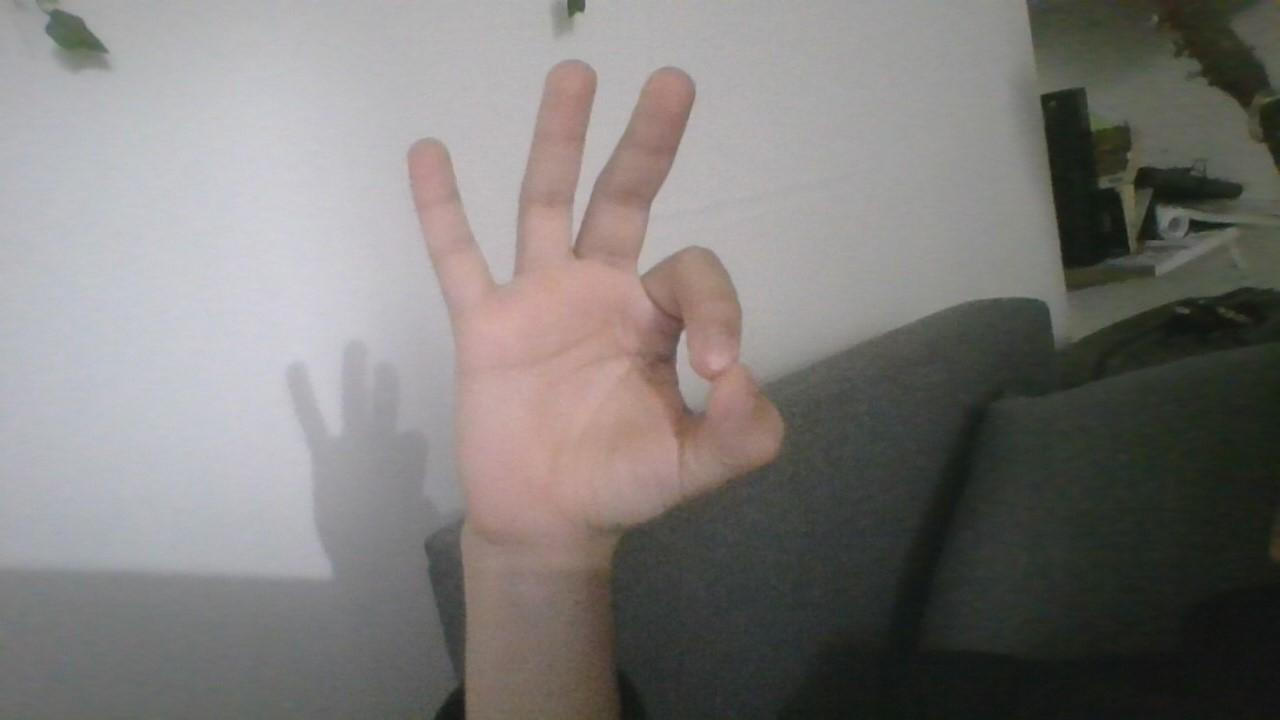zero: (400, 35, 796, 538)
